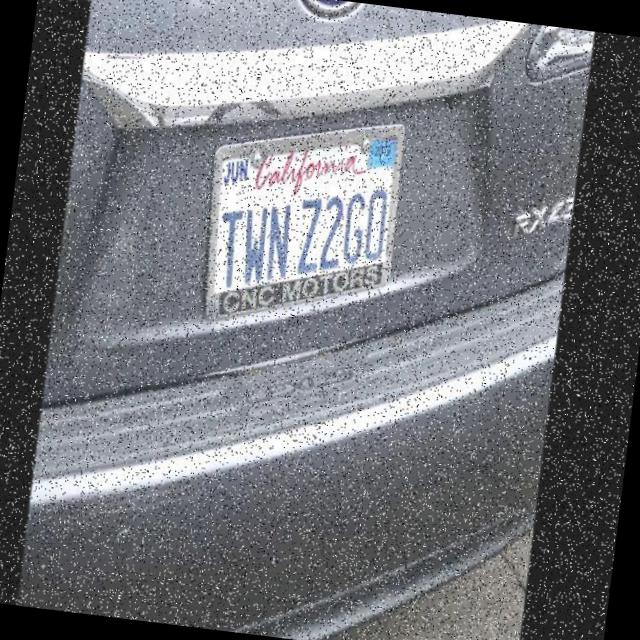LicensePlate: (184, 83, 420, 344)
